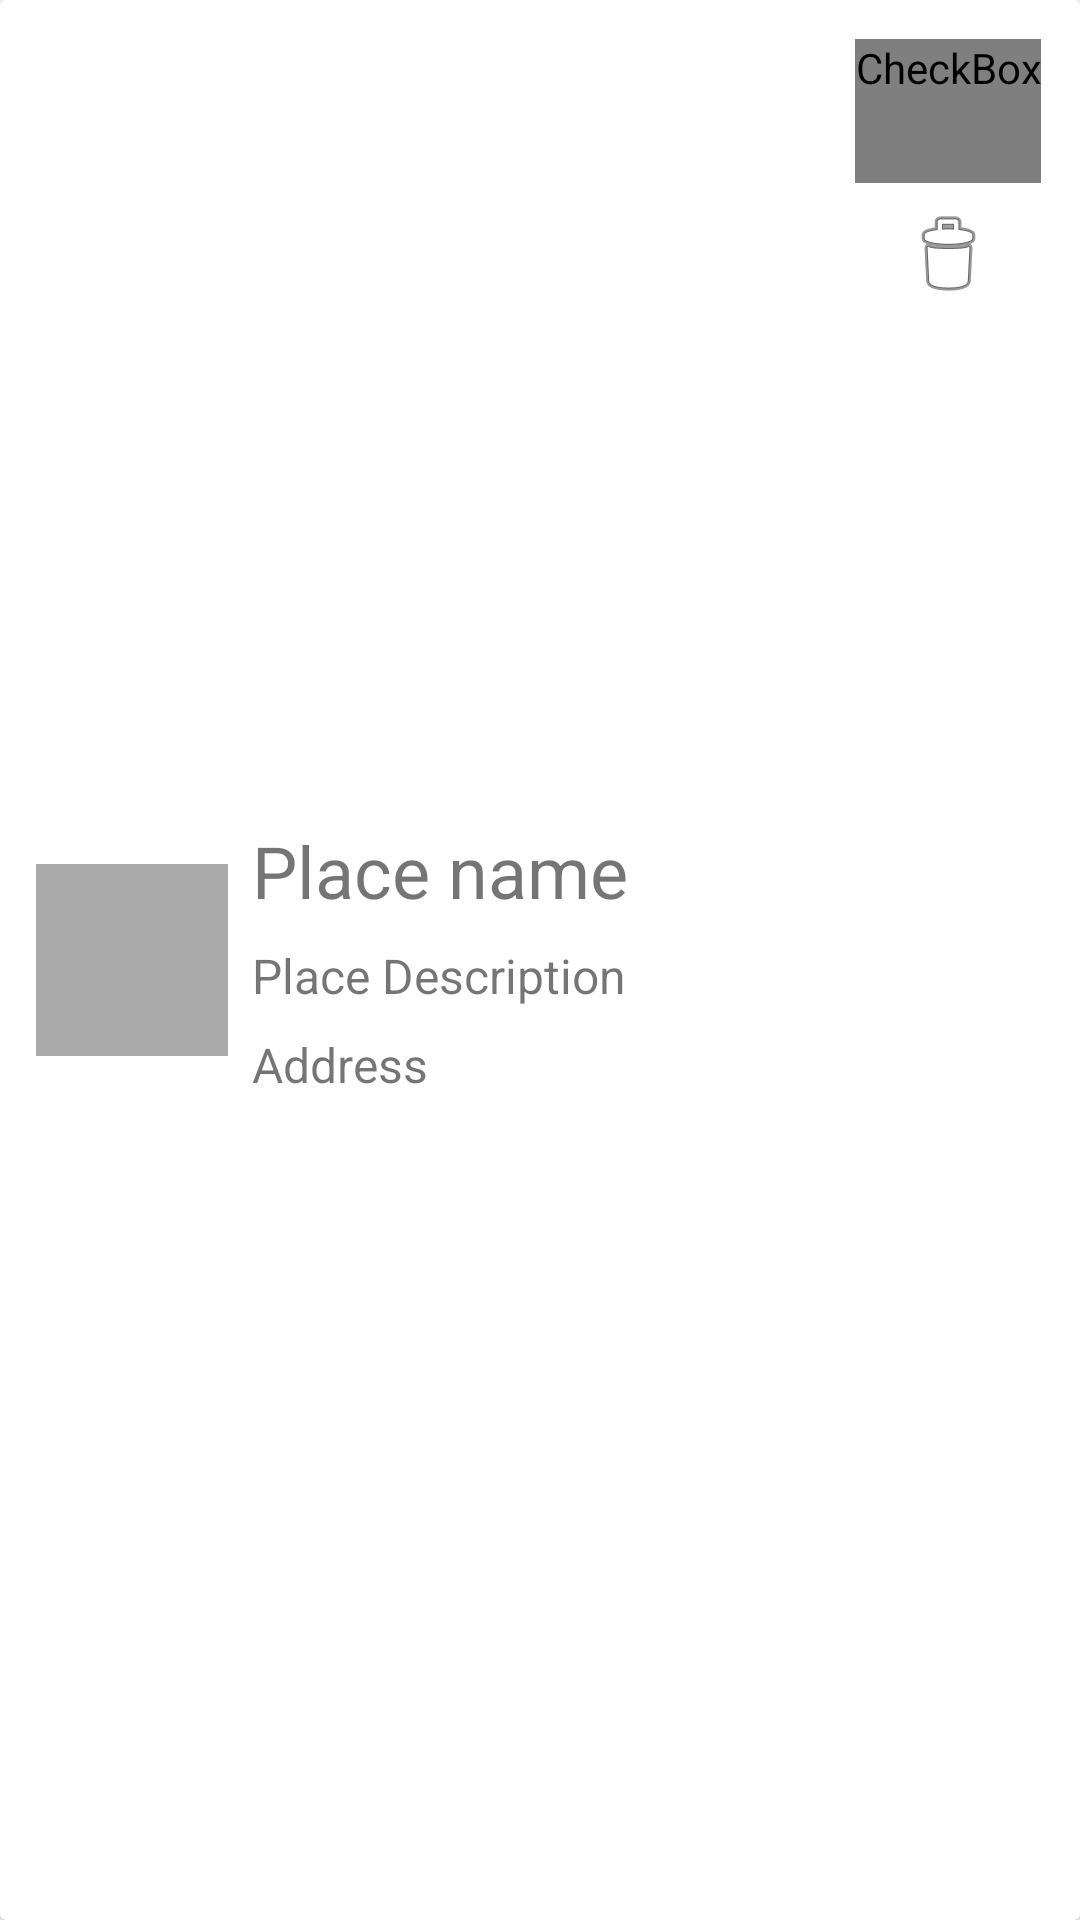

Icons on this 1080 x 1920 Android screen, each with the point to tap as (x,y):
Remove this checkpoint: (948,253)
